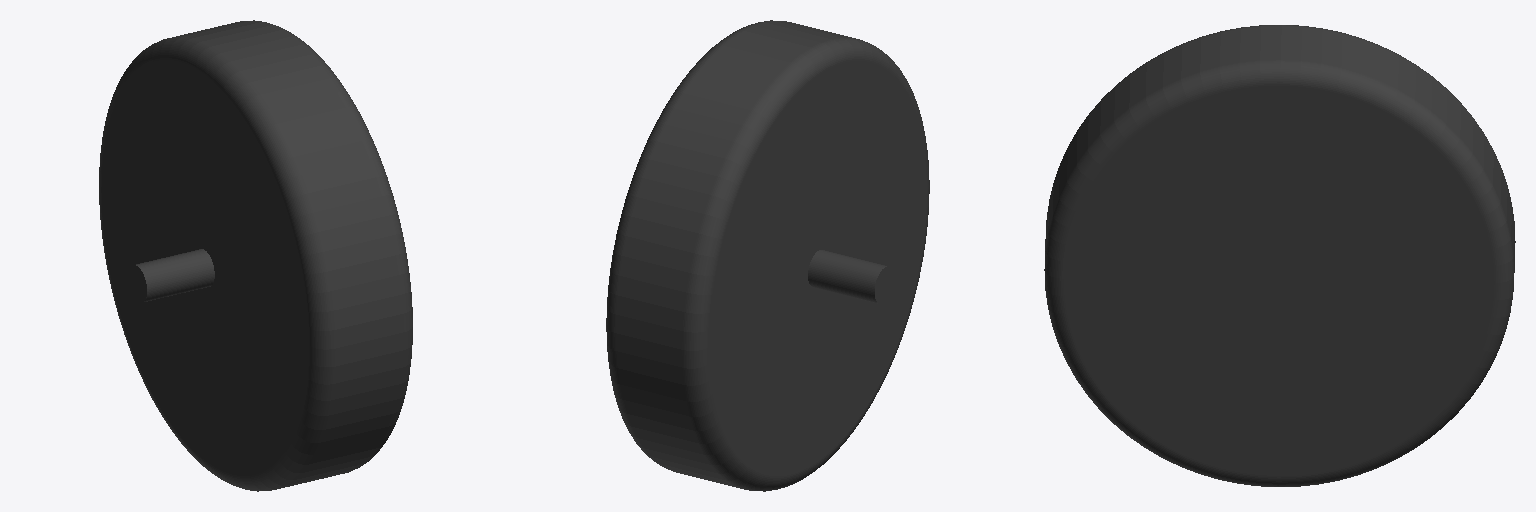
URDF robot description (stable-wheel-legged):
<?xml version="1.0" ?>
<!-- Generated using Placeholder agent system -->
<!-- Onshape https://cad.onshape.com/documents/4310ba928596654794f7356f/w/c64fb7645706442b3cdc2d24/e/35d843946dd86a61ec94bda5 -->
<robot name="stable-wheel-legged">
  <!-- Link back_left_wheel -->
  <link name="back_left_wheel">
    <inertial>
      <origin xyz="0.147995 0.154416 -0.0917246" rpy="0 0 0"/>
      <mass value="0.354411"/>
      <inertia ixx="0.000627958" ixy="-3.95507e-06" ixz="8.82828e-20" iyy="0.000341107" iyz="-1.58968e-18" izz="0.000341052"/>
    </inertial>
    <!-- Part back_left_wheel -->
    <visual>
      <origin xyz="-0.0464381 0.188396 -0.472277" rpy="1.65285 -2.0633e-16 -0.0137843"/>
      <geometry>
        <mesh filename="package://assets/back_left_wheel.stl"/>
      </geometry>
      <material name="back_left_wheel_material">
        <color rgba="0.301961 0.301961 0.301961 1.0"/>
      </material>
    </visual>
    <collision>
      <origin xyz="-0.0464381 0.188396 -0.472277" rpy="1.65285 -2.0633e-16 -0.0137843"/>
      <geometry>
        <mesh filename="package://assets/back_left_wheel.stl"/>
      </geometry>
    </collision>
  </link>
</robot>

--- What the picture shows (computed from the rendered views, not written in the file) ---
3 views of the same robot in one strip: view 1: azimuth 30°, elevation 25°; view 2: azimuth 150°, elevation 25°; view 3: azimuth 270°, elevation 25° (orthographic).
Robot: stable-wheel-legged — 1 links, 0 joints (none); root link back_left_wheel; default pose: all joints at 0.
Visible links, largest first — view 1: back_left_wheel; view 2: back_left_wheel; view 3: back_left_wheel.
Link boxes in pixels (x1,y1,x2,y2): back_left_wheel: (99,20,412,491); back_left_wheel: (606,20,929,491); back_left_wheel: (1044,25,1515,486).
Size in the robot's own frame: 0.0508 by 0.1203 by 0.12 metres.
Meshes: 1 distinct files referenced, 1 mesh visuals loaded (1 binary STL).